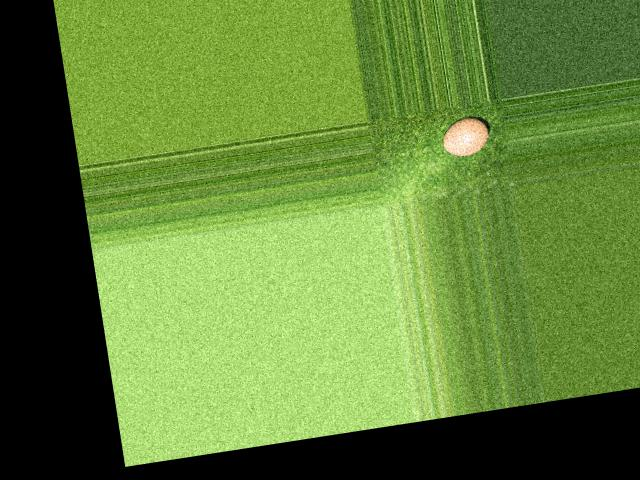egg: (439, 114, 491, 158)
